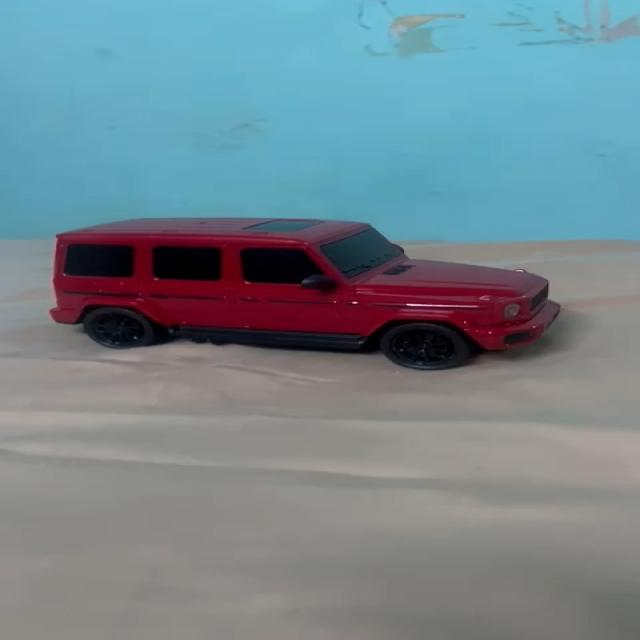light_vehicle: (39, 219, 570, 376)
